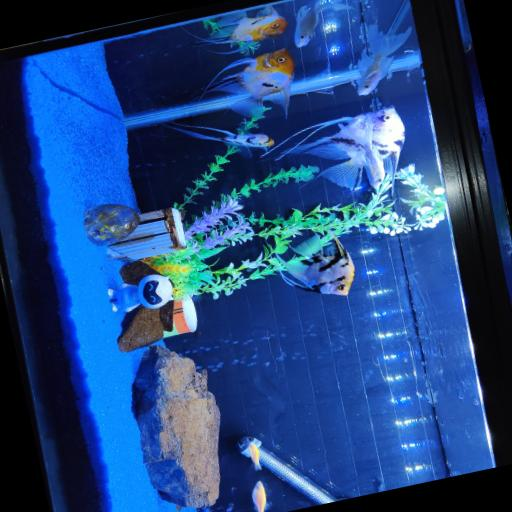Fish: (281, 107, 404, 189), (203, 48, 293, 118), (276, 235, 353, 295), (192, 6, 286, 54), (357, 25, 411, 95), (164, 123, 273, 157), (294, 0, 352, 47), (251, 481, 265, 511), (248, 443, 261, 470)
